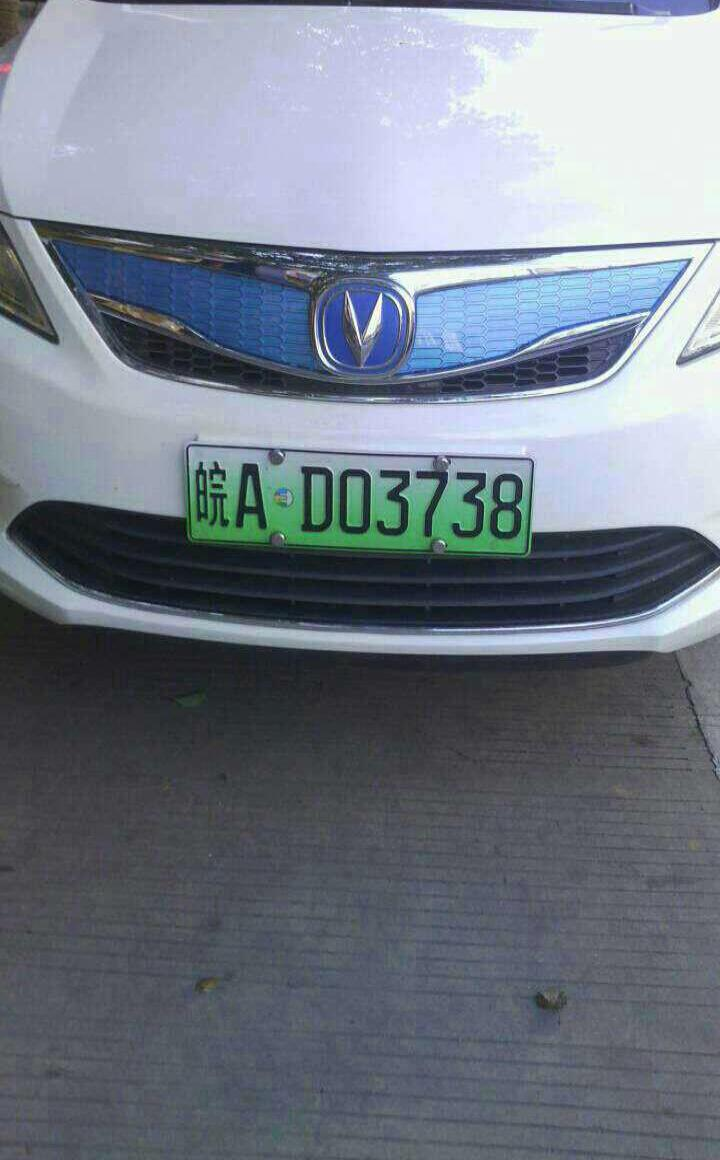car: (178, 440, 538, 562)
